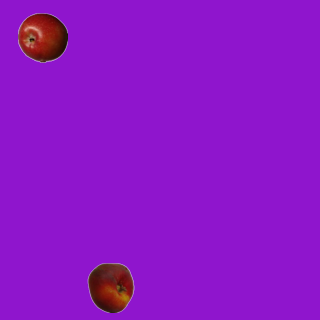Apple Braeburn: (17, 12, 67, 62)
Nectarine Flat: (85, 262, 135, 312)
